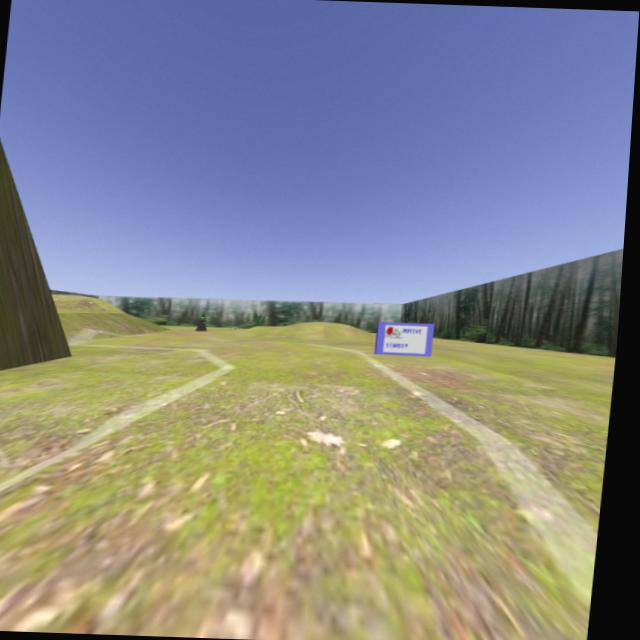clueboard: (372, 320, 436, 358)
